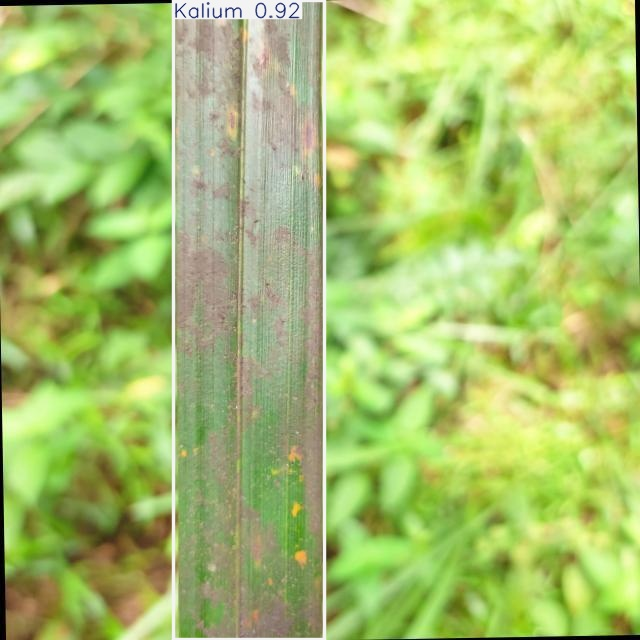Kalium: (174, 0, 324, 640)
